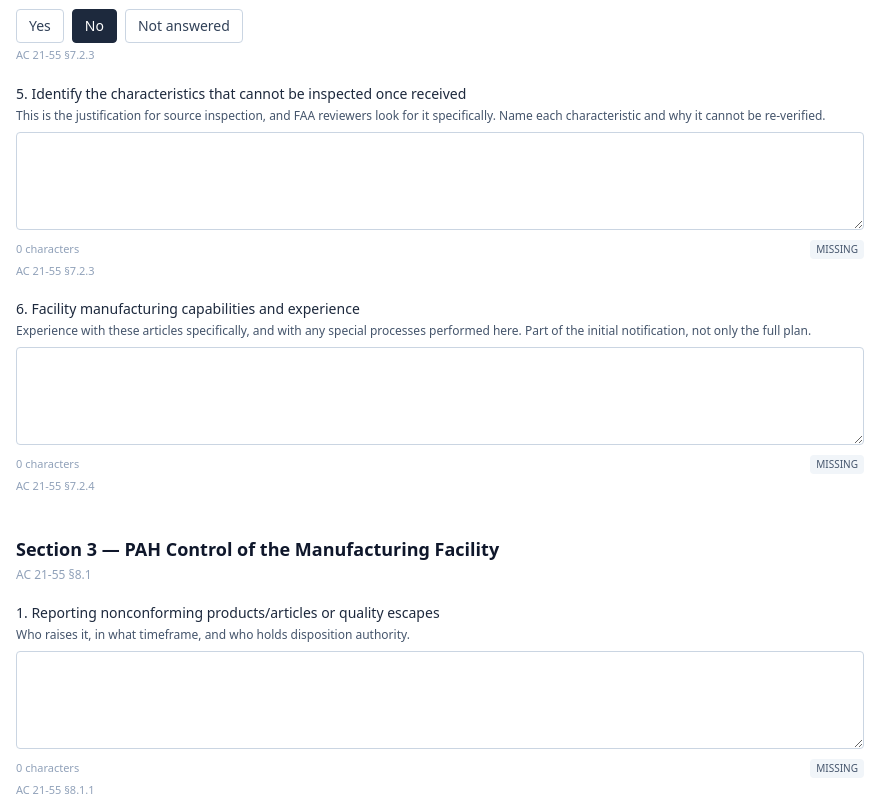
Test: the intake is adaptive, not a long static form › warns live when a narrative is too thin to be what the AC asks for
(page scrolled)
Type "Per our QMS." into the 2nd text box.
click(440, 396); type("Per our QMS.")  # box [16,347,864,445]
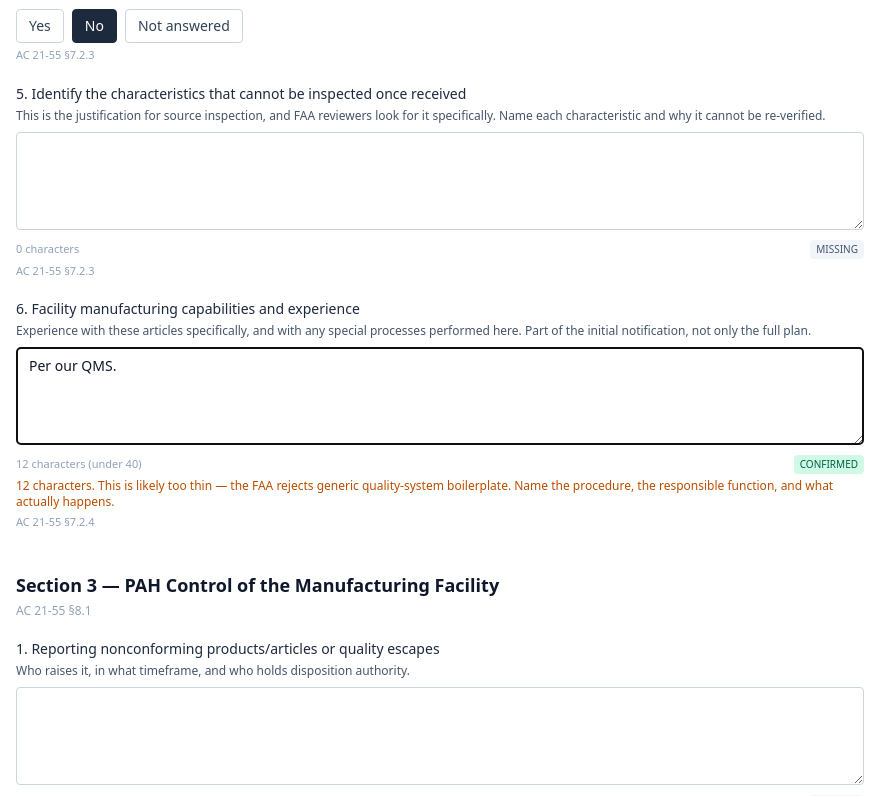
Expected: the text "likely too thin" is shown, [16,477,833,510]
